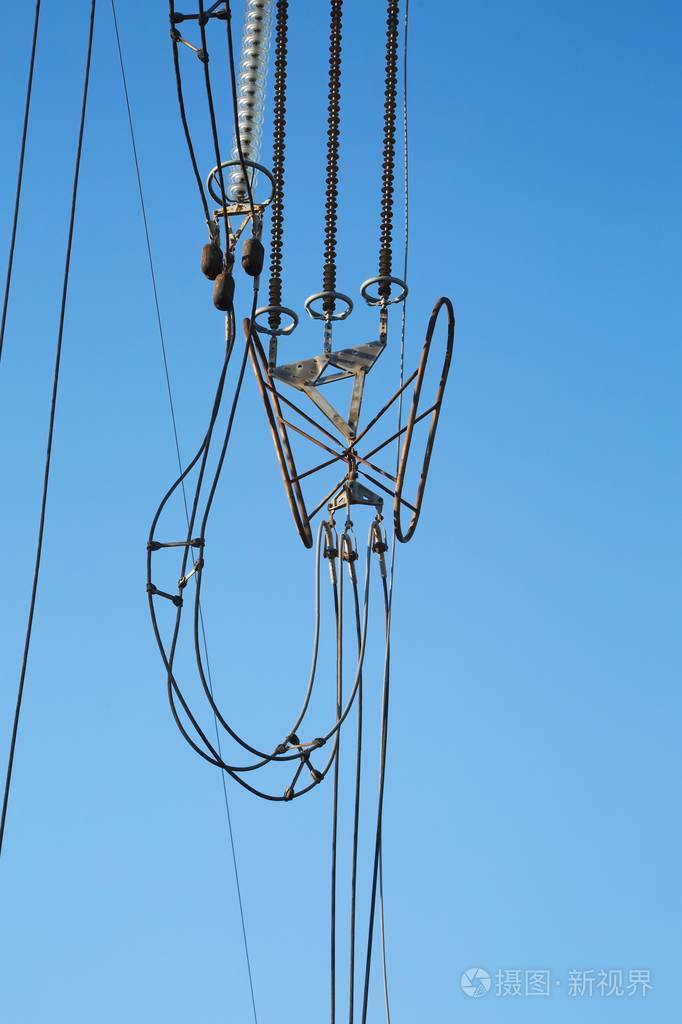insulator: (231, 1, 274, 204)
